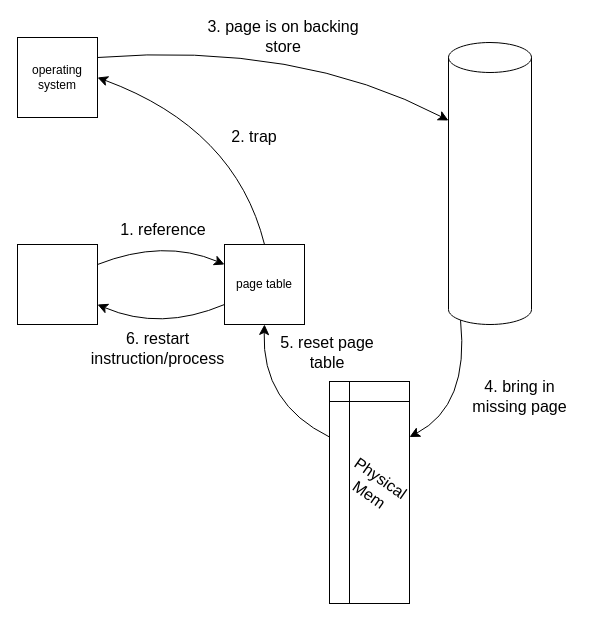
Image size: 599x621. Some labels were removed from this diagram. The box of each missing label's shape, as (x1, y1, x2, y2) in pixels:
disc: (448, 42, 532, 324)
Load M: (16, 244, 98, 324)
